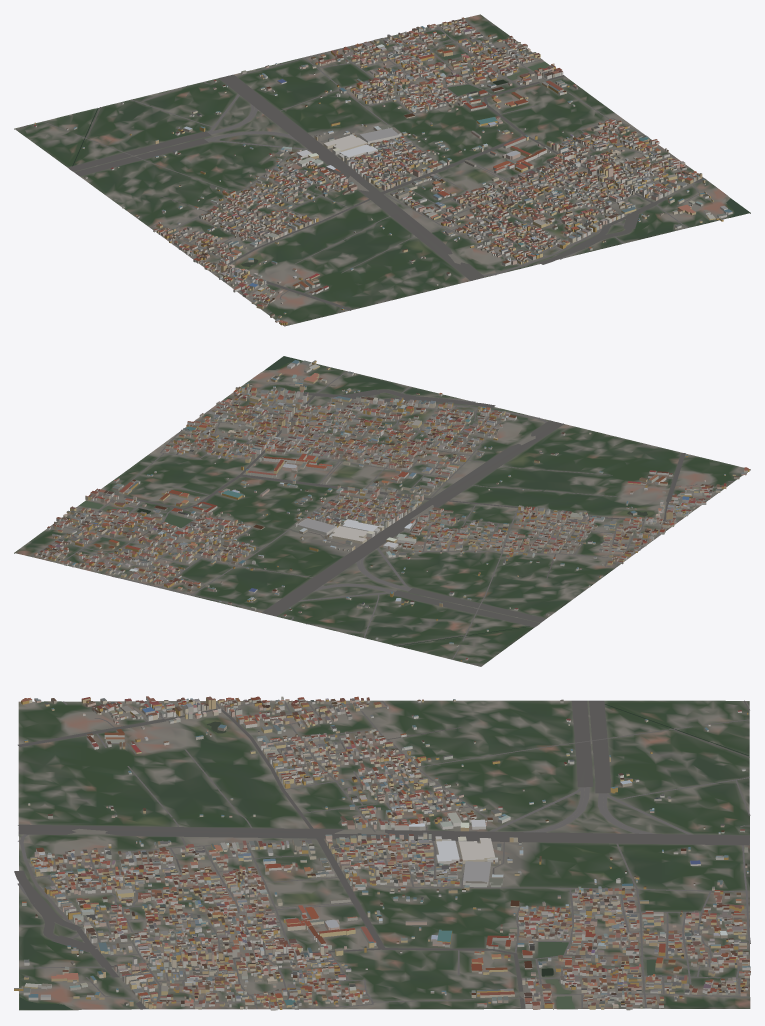
3 renders of one model, top to bottom at view 1: azimuth 30°, elevation 25°; view 2: azimuth 150°, elevation 25°; view 3: azimuth 270°, elevation 25°, orthographic. The views are drawn at different scales.
Visible parts, largest first — view 1: ground, buildings, roads, water; view 2: ground, buildings, roads, water; view 3: ground, buildings, roads, water.
Boxes of the visible parts, x1,y1,x2,y2 form: ground: [14, 14, 750, 326]; buildings: [34, 17, 732, 325]; roads: [16, 20, 706, 314]; water: [72, 52, 749, 267]; ground: [14, 357, 750, 666]; buildings: [33, 360, 749, 661]; roads: [31, 371, 734, 665]; water: [79, 356, 647, 646]; ground: [18, 700, 750, 1010]; buildings: [14, 696, 750, 1010]; roads: [14, 700, 750, 1009]; water: [19, 704, 749, 1009].
Size of the model in its own units: 1413 by 28.33 by 1413.
